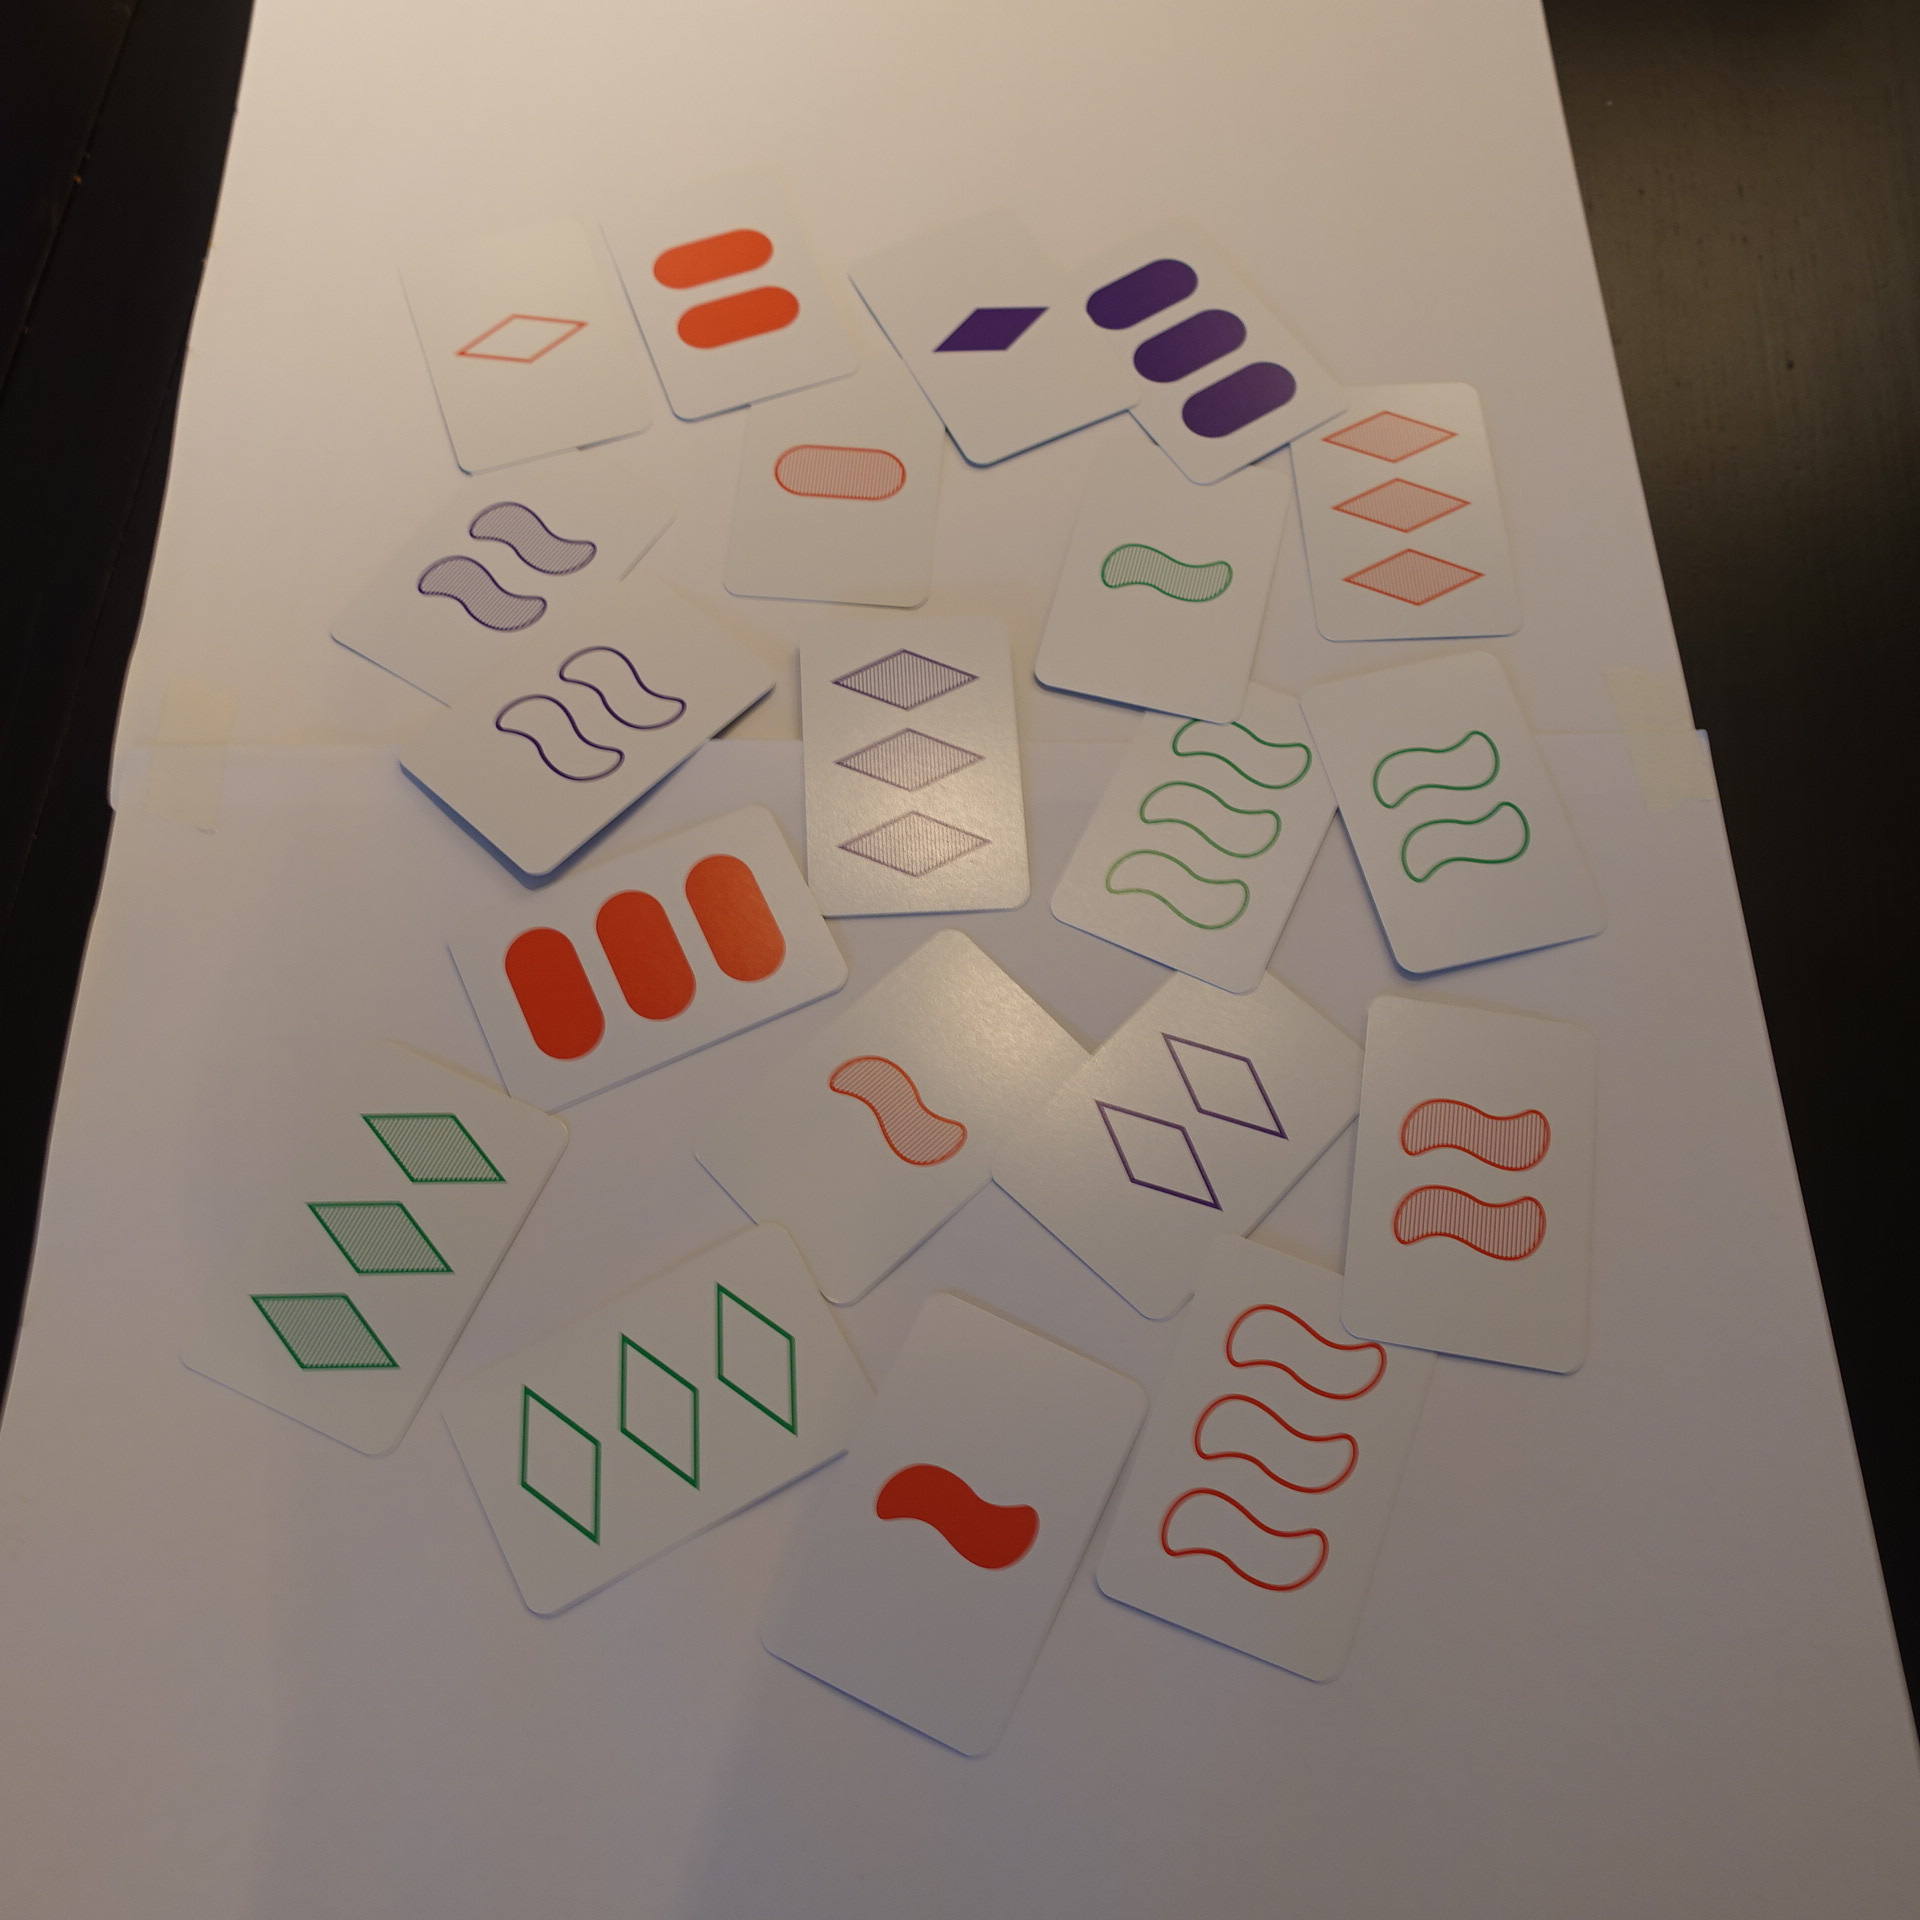c-3-f-o-g: (747, 1276, 1160, 1769), (429, 1210, 907, 1626), (158, 1025, 580, 1459), (677, 920, 1120, 1317), (1087, 1231, 1456, 1693), (983, 925, 1400, 1333), (433, 795, 860, 1125), (382, 566, 786, 884), (322, 401, 687, 730), (1335, 981, 1619, 1391), (1036, 656, 1366, 1006), (1294, 644, 1612, 986), (1039, 227, 1363, 496), (840, 199, 1153, 475), (1029, 418, 1301, 731), (779, 608, 1041, 925), (387, 200, 670, 484), (709, 324, 965, 621), (598, 156, 879, 427), (1287, 367, 1533, 649)
